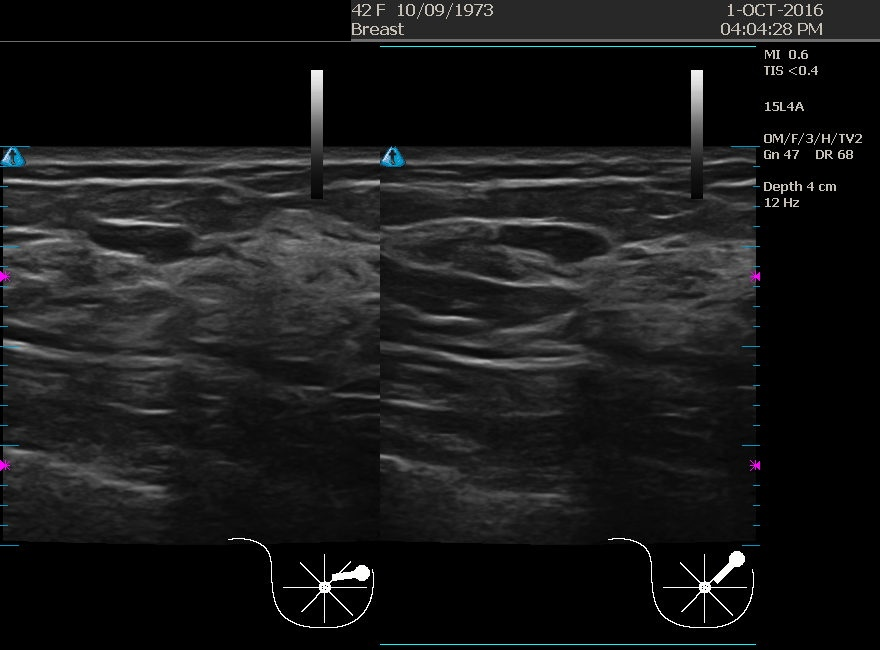Benign: (43, 155, 243, 355), (444, 170, 644, 370)
